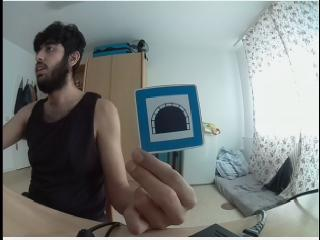tunnel: (134, 88, 200, 150)
